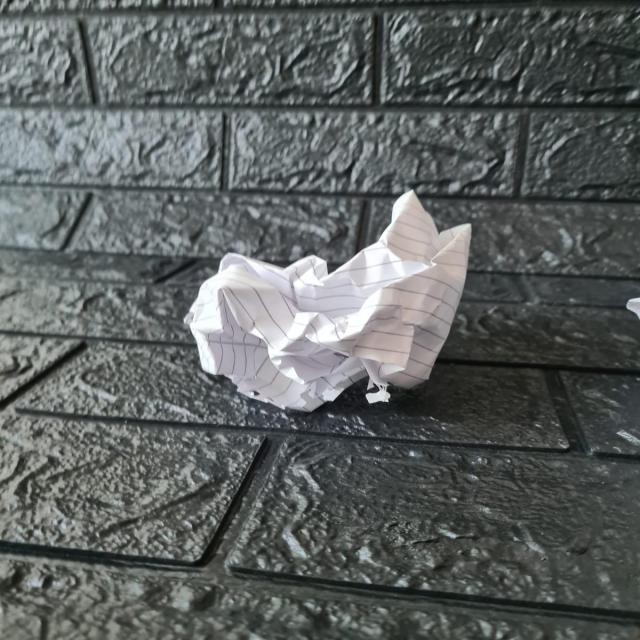cardboard paper: (184, 190, 469, 409)
